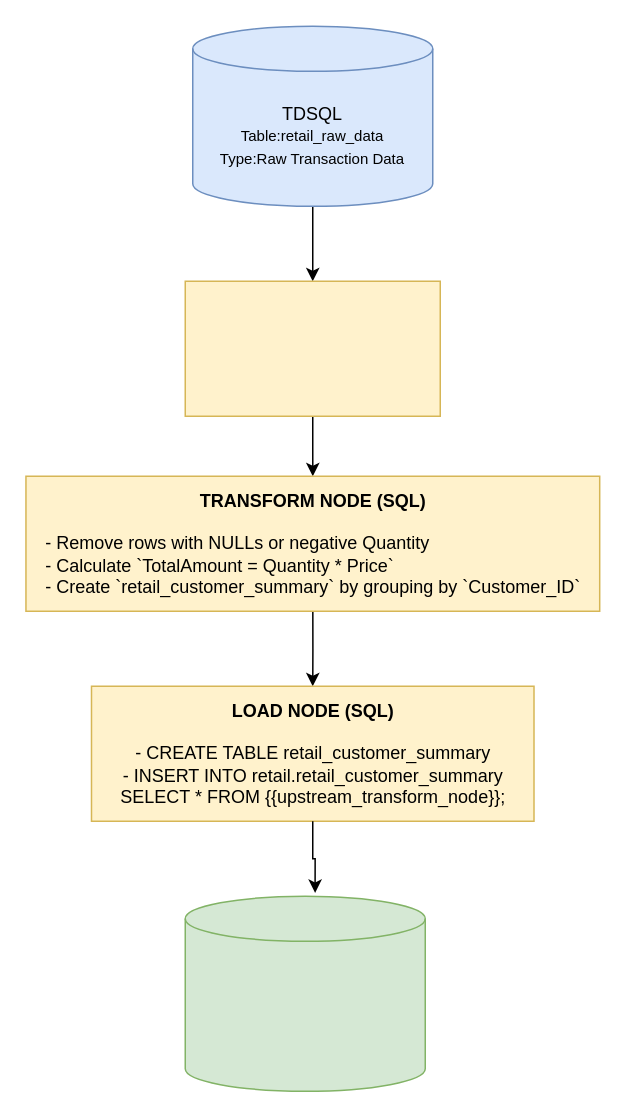
Some shapes in this 627 by 1118 pixel diagram are drawn without their labels. The centre of each missing label's shape, as x and y in pixels:
EXTRACT NODE (SQL) SELECT * FROM retail.retail_raw_data;: (312,348)
TCHOUSE Table: retail_customer_summary Type: Aggregated summary: (304,993)
